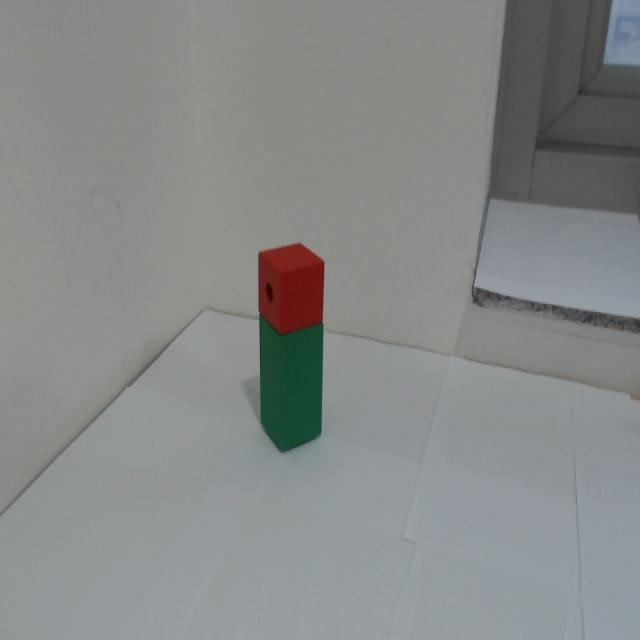cube: (245, 224, 335, 325)
